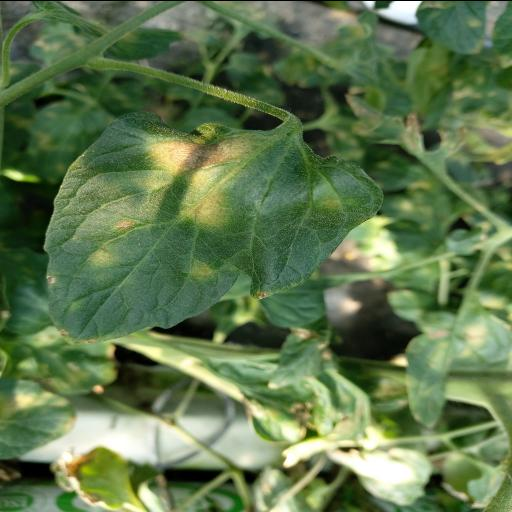disease_tomato: (41, 109, 379, 344)
